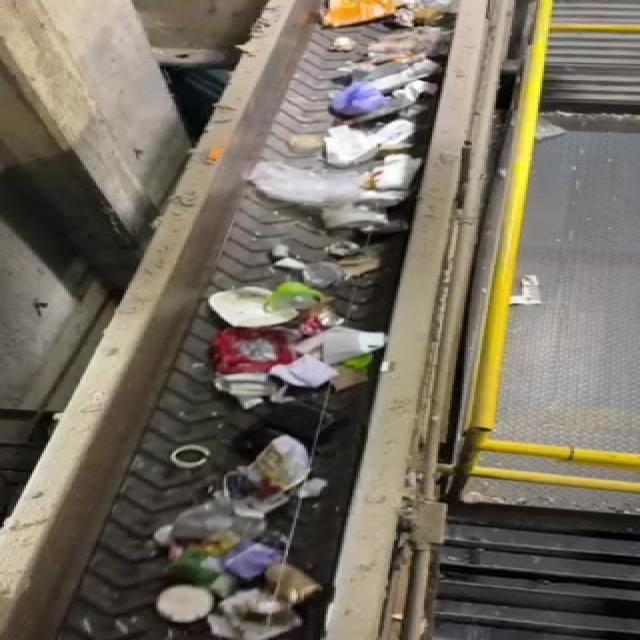pet: (250, 557, 337, 609)
